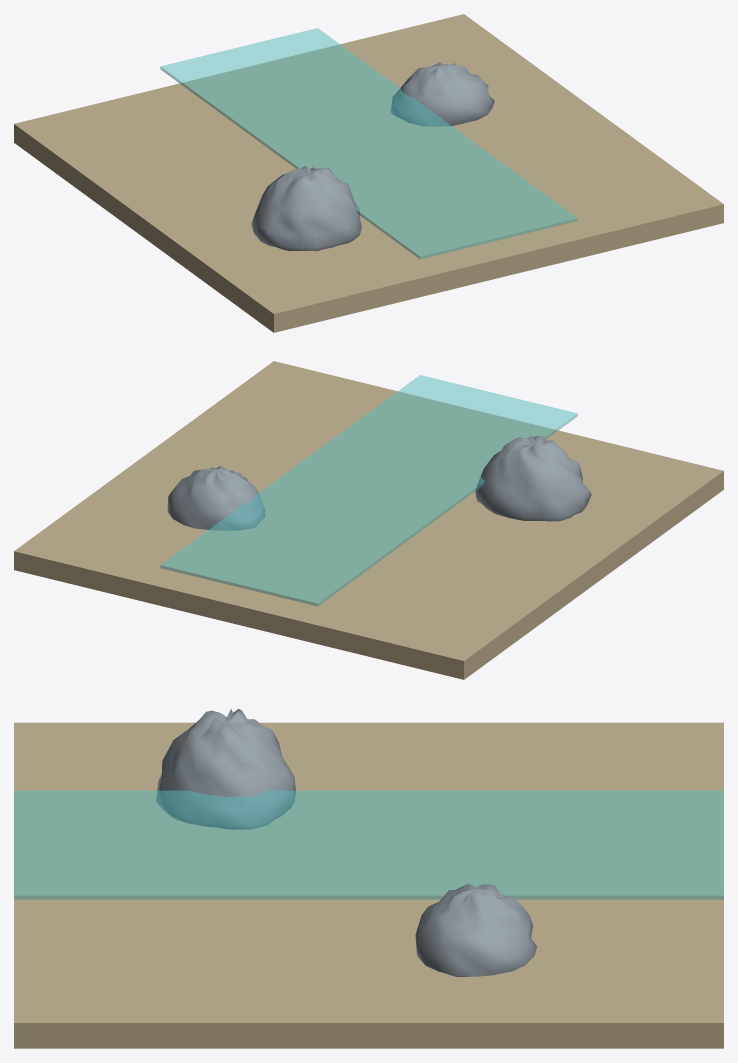
The model's file is stream_over_rock_tile_tropical_island_and_palm_trees_6861.glb.
3 renders of one model, top to bottom at view 1: azimuth 30°, elevation 25°; view 2: azimuth 150°, elevation 25°; view 3: azimuth 270°, elevation 25°, orthographic. The views are drawn at different scales.
Visible parts, largest first — view 1: stream-over-rock; view 2: stream-over-rock; view 3: stream-over-rock.
Part boxes in pixels (x1,y1,x2,y2): stream-over-rock: (14,14,723,332); stream-over-rock: (14,361,723,679); stream-over-rock: (14,709,723,1048).
Size of the model in its own units: 4 by 0.6789 by 4.
